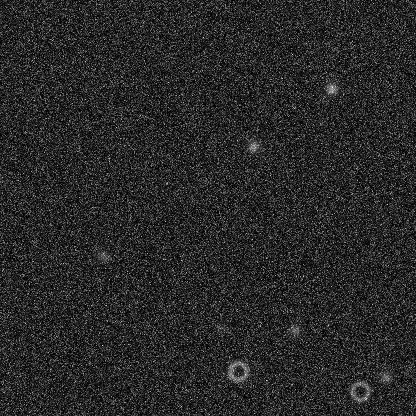Ring: (226, 359, 250, 383), (348, 379, 372, 403)
Spot: (377, 368, 393, 384), (94, 248, 110, 264), (323, 80, 339, 96), (245, 138, 261, 154), (286, 321, 302, 337), (214, 319, 230, 335)
